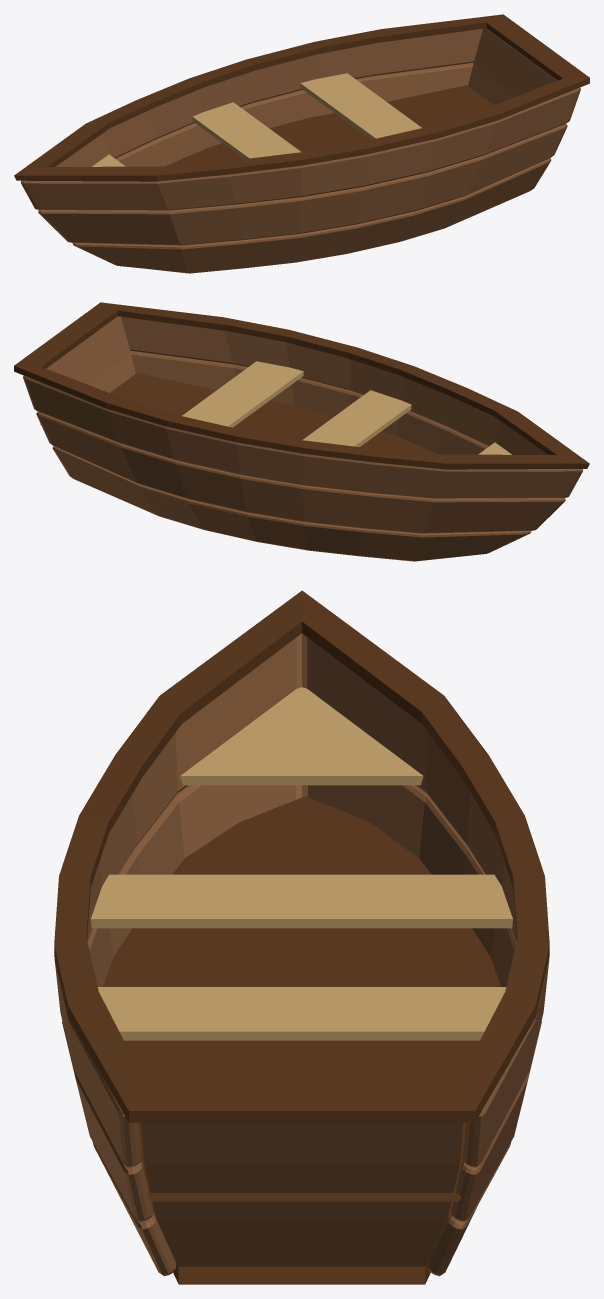
File: boat.glb
3 renders of one model, top to bottom at view 1: azimuth 30°, elevation 25°; view 2: azimuth 150°, elevation 25°; view 3: azimuth 270°, elevation 25°, orthographic. The views are drawn at different scales.
Visible parts, largest first — view 1: boat shape; view 2: boat shape; view 3: boat shape.
Boxes of the visible parts, x1,y1,x2,y2 form: boat shape: (14, 14, 589, 273); boat shape: (14, 302, 589, 561); boat shape: (54, 590, 549, 1284).
Bounding box in the file's own units: 4.96 × 1.04 × 2.
